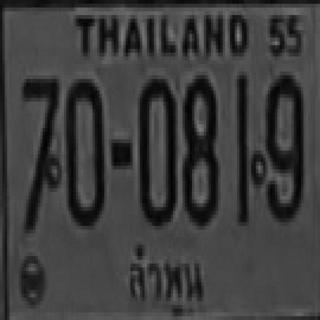N00: (64, 75, 102, 222), (138, 75, 176, 222)
N01: (235, 74, 249, 224)
N07: (21, 75, 57, 230), (21, 77, 57, 209), (21, 77, 57, 179)
N08: (180, 72, 216, 222)
N09: (263, 72, 301, 218)
P21: (124, 239, 207, 319)
